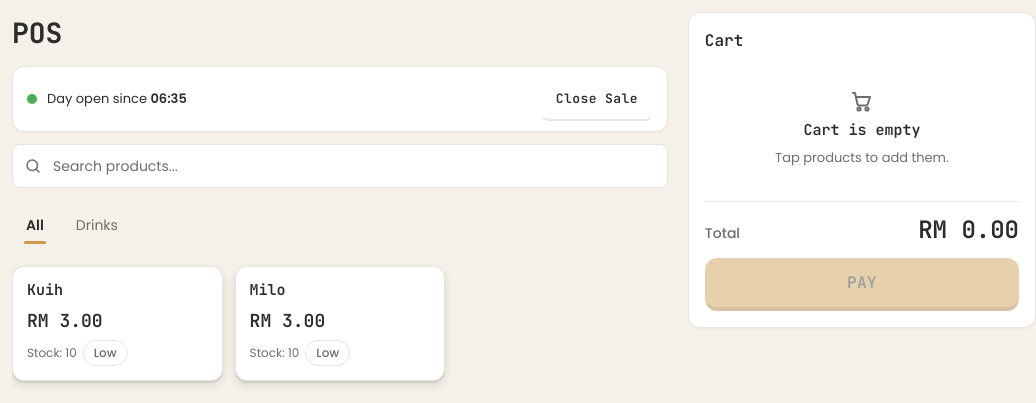
Test: PosPage › filters by category; All shows uncategorized products
This screenshot has width=1036, height=403.
Expected: the button with aria-label "Add Kuih" is shown, 12,266 -> 223,380
Click the button "Drinks": click(97, 224) 62,202 -> 132,246
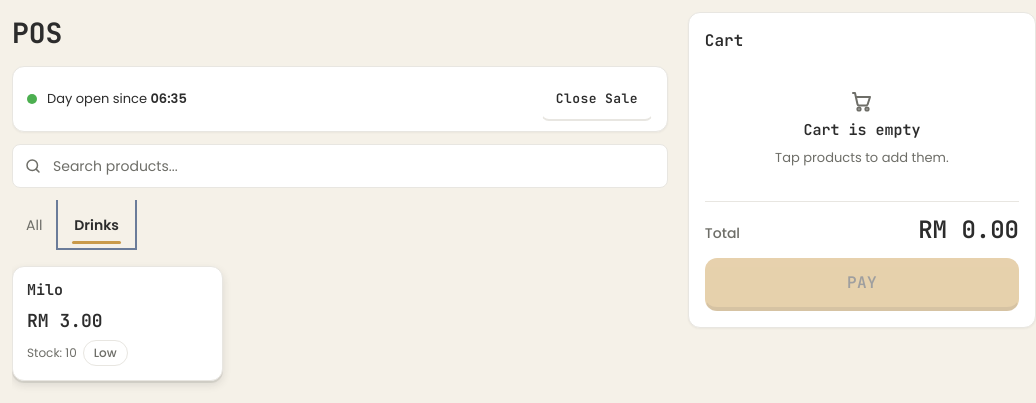
Expected: the button with aria-label "Add Milo" is shown, 12,266 -> 223,380
Click the button "All": click(34, 224) 12,202 -> 56,246
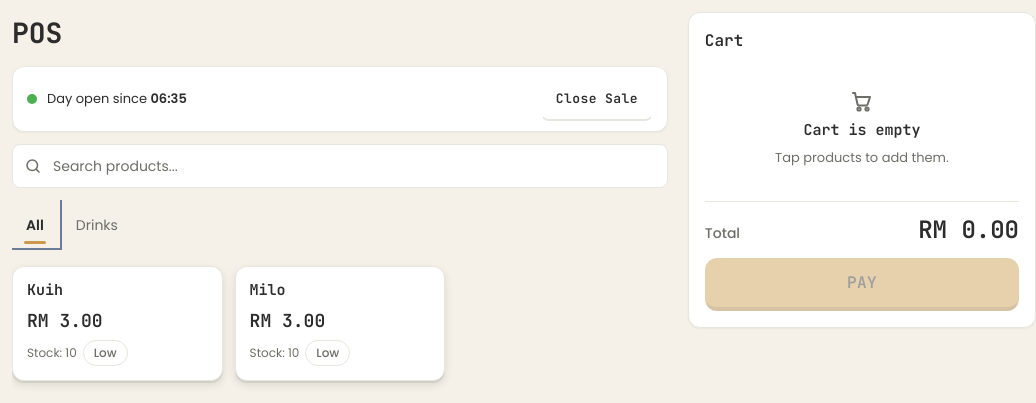
Expected: the button with aria-label "Add Kuih" is shown, 12,266 -> 223,380
